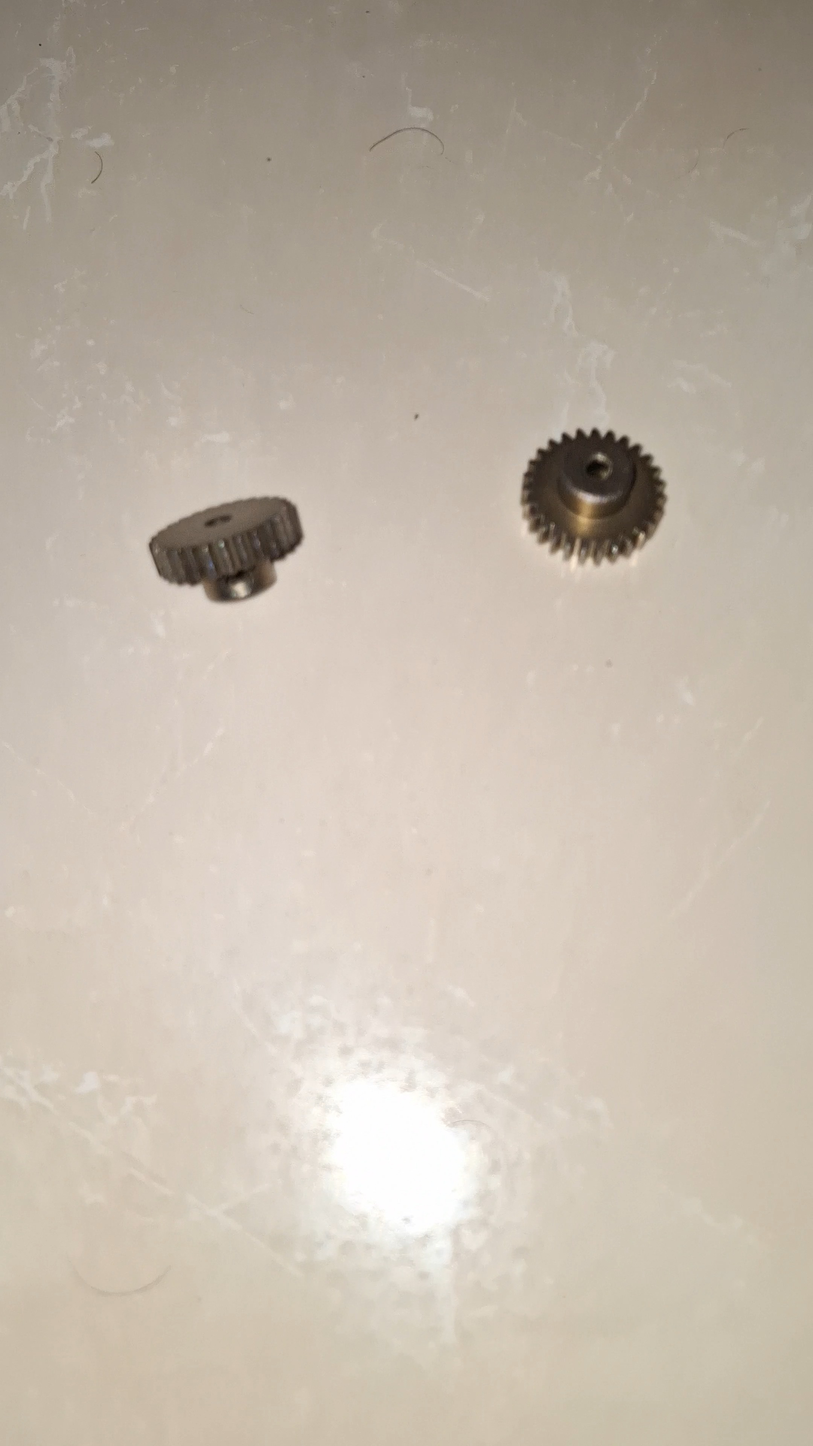spur gear: (522, 430, 665, 562), (150, 497, 301, 600)
